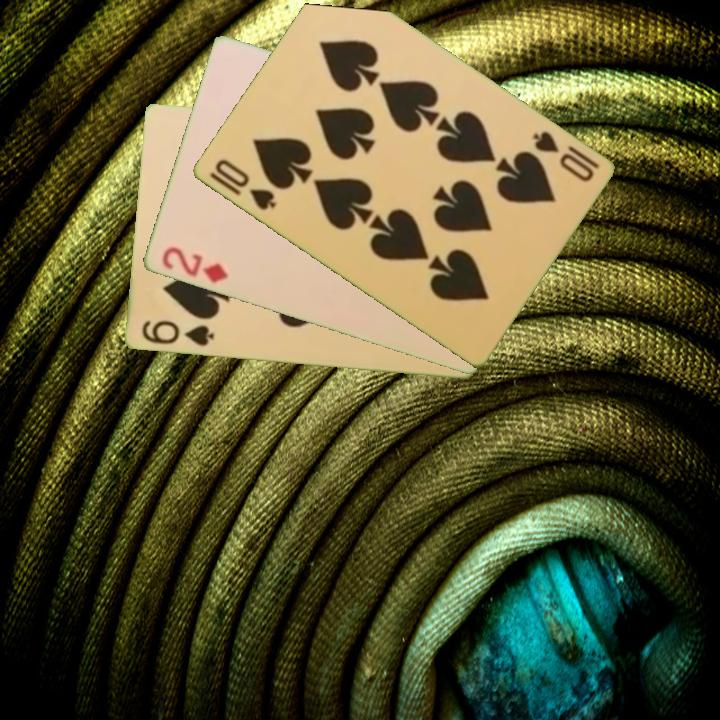10s: (528, 127, 602, 185), (210, 155, 279, 214)
2d: (157, 243, 231, 287)
6s: (138, 317, 217, 349)
